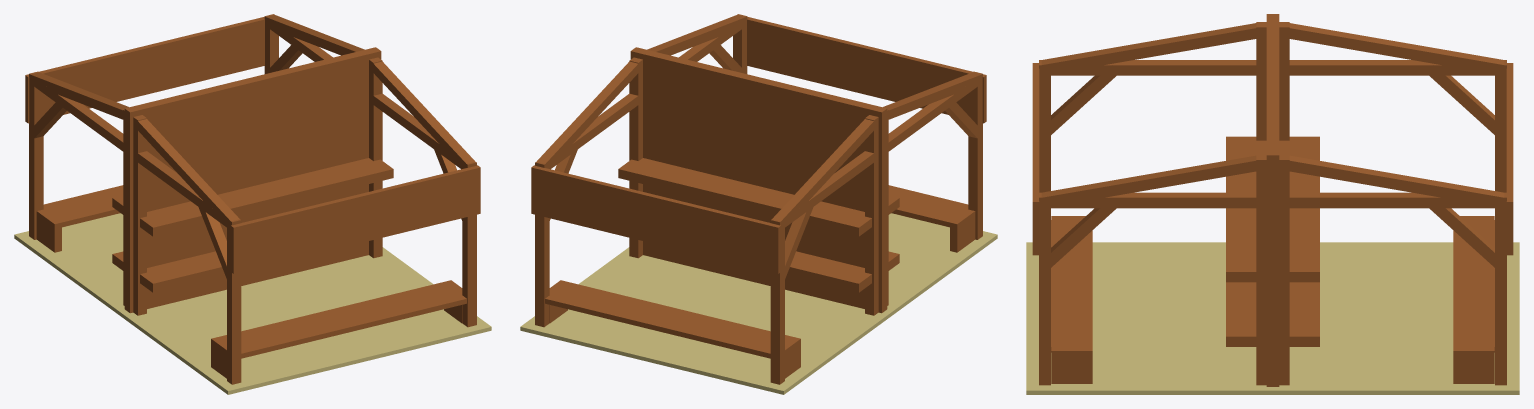
Rendered from Park1.fbx.
3 views of the same model, side by side, from view 1: azimuth 30°, elevation 25°; view 2: azimuth 150°, elevation 25°; view 3: azimuth 270°, elevation 25° (orthographic). The views are drawn at different scales.
Visible parts, largest first — view 1: Cube.018; view 2: Cube.018; view 3: Cube.018.
Boxes of the visible parts, bbox=[...] form: Cube.018: bbox=[14, 14, 491, 394]; Cube.018: bbox=[520, 14, 997, 394]; Cube.018: bbox=[1026, 14, 1519, 394].
Size of the model in its own units: 569 by 422 by 799.
